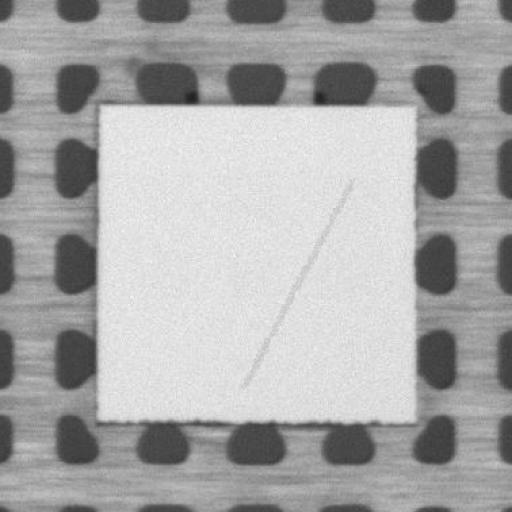DIE_CRACK: (242, 182, 350, 388)
